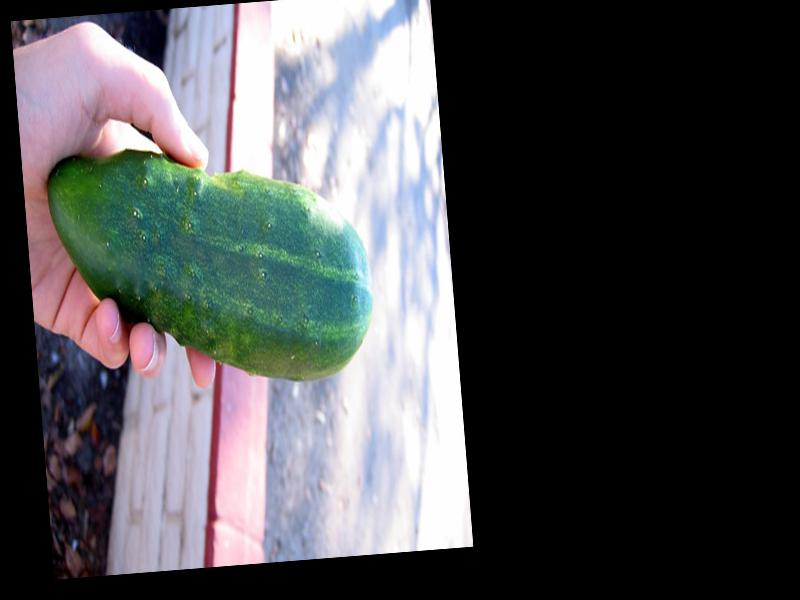Cucumber: (45, 133, 377, 402)
